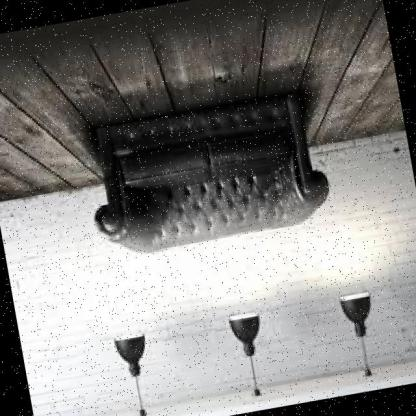Sofa: (48, 64, 360, 283)
